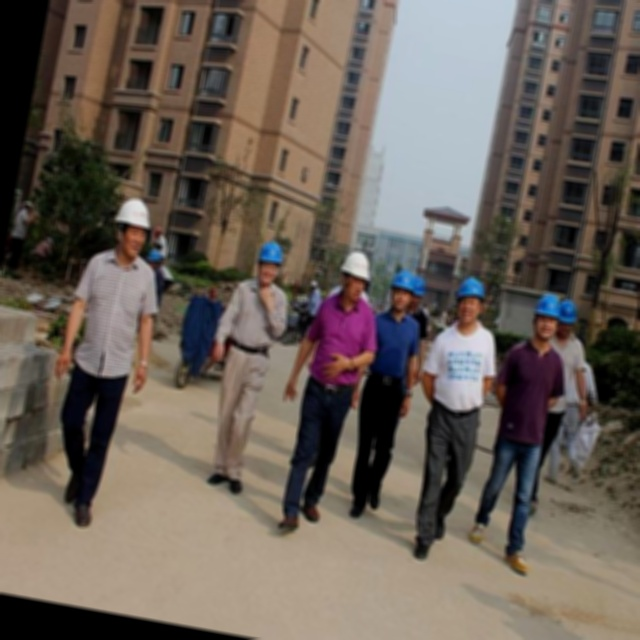Con_Casco: (110, 194, 156, 258), (338, 248, 377, 300), (452, 276, 486, 324), (254, 239, 288, 286)
